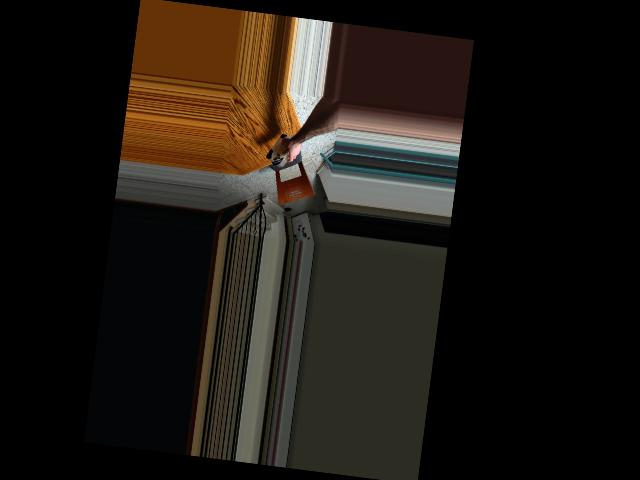cheese: (265, 129, 302, 169)
